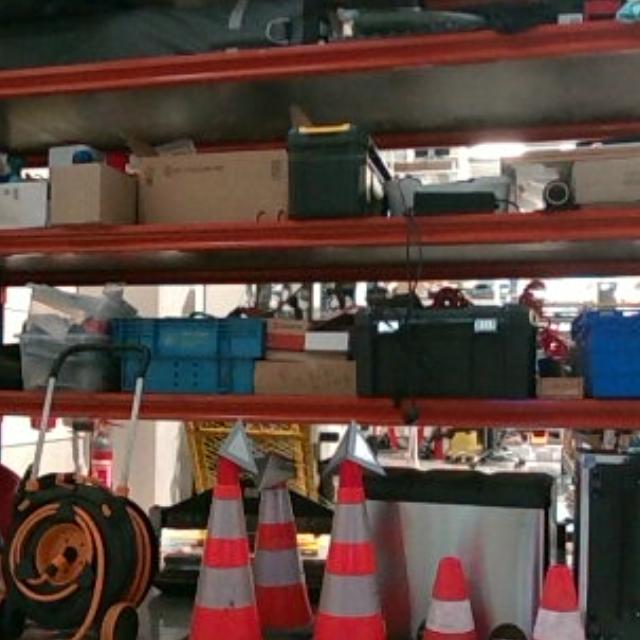Traffic-cone: (165, 447, 278, 640), (294, 463, 416, 640), (244, 472, 314, 640), (507, 546, 606, 640), (402, 552, 496, 640)
